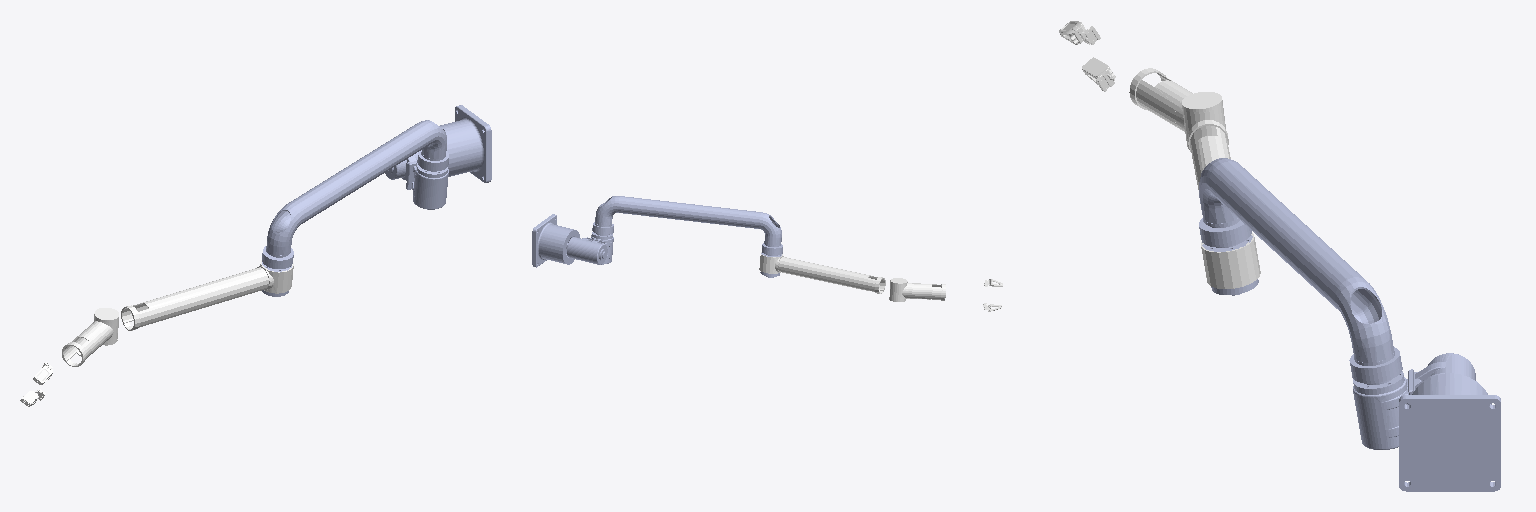
The robot description file, URDF, robot "artificial2__starlink_sldasm9":
<?xml version='1.0' encoding='utf-8'?>
<robot name="artificial2__starlink_sldasm9">
  <link name="base_link">
    <visual>
      <geometry>
        <mesh filename="../satellites/artificial2/satellite.stl" />
      </geometry>
      <material name="satellite_grey">
        <color rgba=".6 .7 .8 1" />
      </material>
    </visual>
    <collision>
      <geometry>
        <mesh filename="../satellites/artificial2/satellite.stl" />
      </geometry>
    </collision>
  </link>
  <link name="artificial2_mount" />
  <joint name="satellite_mount_fixed" type="fixed">
    <parent link="base_link" />
    <child link="artificial2_mount" />
    <origin xyz="-0.22911911390164835 1.1 0.35" rpy="0.0 -1.5707963267948966 0.0" />
  </joint>
  <link name="mount_support">
    <visual>
      <geometry>
        <mesh filename="../satellites/artificial2/mount_support.stl" />
      </geometry>
      <material name="mount_green">
        <color rgba=".2 .7 .35 1" />
      </material>
    </visual>
    <collision>
      <geometry>
        <mesh filename="../satellites/artificial2/mount_support.stl" />
      </geometry>
    </collision>
  </link>
  <joint name="support_fixed" type="fixed">
    <parent link="artificial2_mount" />
    <child link="mount_support" />
    <origin xyz="0 0 0" rpy="0 0 0" />
  </joint>
  <joint name="arm_adapter_fixed" type="fixed">
    <parent link="artificial2_mount" />
    <child link="starlink_space_manipulator_base_link" />
    <origin xyz="0.009087204933166504 0.008519247174263 0.15000000141561035" rpy="-1.5707963267948966 0 0" />
  </joint>
  <link name="starlink_space_manipulator_base_link">
    <inertial>
      <origin xyz="-0.00908719924946466 0.0225428225681148 -0.00851924929637313" rpy="0 0 0" />
      <mass value="8.66024015898073" />
      <inertia ixx="0.0960303512697639" ixy="1.65511904636803E-18" ixz="6.22039820639877E-19" iyy="0.103454922260914" iyz="-9.68471289978311E-19" izz="0.0960303512697639" />
    </inertial>
    <visual>
      <origin xyz="0 0 0" rpy="0 0 0" />
      <geometry>
        <mesh filename="../arms/starlink_sldasm9/meshes/starlink_space_manipulator_base_link.STL" />
      </geometry>
      <material name="">
        <color rgba="0.792156862745098 0.819607843137255 0.933333333333333 1" />
      </material>
    </visual>
    <collision>
      <origin xyz="0 0 0" rpy="0 0 0" />
      <geometry>
        <mesh filename="../arms/starlink_sldasm9/meshes/starlink_space_manipulator_base_link.STL" />
      </geometry>
    </collision>
  </link>
  <link name="starlink_space_manipulator_Shoulder_link_1">
    <inertial>
      <origin xyz="-0.000399471745595769 -0.100006574194712 -0.17423940484461" rpy="0 0 0" />
      <mass value="5.16309216784981" />
      <inertia ixx="0.0524543852135592" ixy="0.00348154867667969" ixz="6.96526910910627E-05" iyy="0.0306595326318824" iyz="-0.00056674368052247" izz="0.0439979075615329" />
    </inertial>
    <visual>
      <origin xyz="0 0 0" rpy="0 0 0" />
      <geometry>
        <mesh filename="../arms/starlink_sldasm9/meshes/starlink_space_manipulator_Shoulder_link_1.STL" />
      </geometry>
      <material name="">
        <color rgba="0.792156862745098 0.819607843137255 0.933333333333333 1" />
      </material>
    </visual>
    <collision>
      <origin xyz="0 0 0" rpy="0 0 0" />
      <geometry>
        <mesh filename="../arms/starlink_sldasm9/meshes/starlink_space_manipulator_Shoulder_link_1.STL" />
      </geometry>
    </collision>
  </link>
  <joint name="starlink_space_manipulator_Shoulder_link_1_yaw" type="revolute">
    <origin xyz="-0.0090872 -0.065 -0.0085192" rpy="1.5708 -0.15574 3.1416" />
    <parent link="starlink_space_manipulator_base_link" />
    <child link="starlink_space_manipulator_Shoulder_link_1" />
    <axis xyz="0 0 -1" />
    <limit lower="-3.14" upper="3.14" effort="0" velocity="0" />
  </joint>
  <link name="starlink_space_manipulator_Upper_arm_Link_1">
    <inertial>
      <origin xyz="0.402106341472203 -0.696465272634528 -0.170177523085579" rpy="0 0 0" />
      <mass value="5.05309869040685" />
      <inertia ixx="0.388719013133801" ixy="0.210155896498943" ixz="9.30829370680679E-08" iyy="0.146049057575642" iyz="1.71830458004218E-07" izz="0.500677708275447" />
    </inertial>
    <visual>
      <origin xyz="0 0 0" rpy="0 0 0" />
      <geometry>
        <mesh filename="../arms/starlink_sldasm9/meshes/starlink_space_manipulator_Upper_arm_Link_1.STL" />
      </geometry>
      <material name="">
        <color rgba="0.792156862745098 0.819607843137255 0.933333333333333 1" />
      </material>
    </visual>
    <collision>
      <origin xyz="0 0 0" rpy="0 0 0" />
      <geometry>
        <mesh filename="../arms/starlink_sldasm9/meshes/starlink_space_manipulator_Upper_arm_Link_1.STL" />
      </geometry>
    </collision>
  </link>
  <joint name="starlink_space_manipulator_Upper_arm_Link_1_roll" type="revolute">
    <origin xyz="0 -0.2 -0.18" rpy="1.5708 0.90646 1.5708" />
    <parent link="starlink_space_manipulator_Shoulder_link_1" />
    <child link="starlink_space_manipulator_Upper_arm_Link_1" />
    <axis xyz="0 0 -1" />
    <limit lower="-2" upper="1.5" effort="0" velocity="0" />
  </joint>
  <link name="starlink_space_manipulator_Mid_arm_Link_1">
    <inertial>
      <origin xyz="-0.000406052776441013 0.317722269561105 0.0155331755135703" rpy="0 0 0" />
      <mass value="1.57635531881168" />
      <inertia ixx="0.133610363618846" ixy="5.33750993405138E-05" ixz="-3.60473795202962E-09" iyy="0.00502119434334708" iyz="-2.514275749911E-05" izz="0.134586018527477" />
    </inertial>
    <visual>
      <origin xyz="0 0 0" rpy="0 0 0" />
      <geometry>
        <mesh filename="../arms/starlink_sldasm9/meshes/starlink_space_manipulator_Mid_arm_Link_1.STL" />
      </geometry>
      <material name="">
        <color rgba="1 1 1 1" />
      </material>
    </visual>
    <collision>
      <origin xyz="0 0 0" rpy="0 0 0" />
      <geometry>
        <mesh filename="../arms/starlink_sldasm9/meshes/starlink_space_manipulator_Mid_arm_Link_1.STL" />
      </geometry>
    </collision>
  </link>
  <joint name="starlink_space_manipulator_Mid_arm_Link_1_roll" type="revolute">
    <origin xyz="0.599999999999673 -1.03923048454122 0" rpy="-3.14159265358979 0 0.828250280535091" />
    <parent link="starlink_space_manipulator_Upper_arm_Link_1" />
    <child link="starlink_space_manipulator_Mid_arm_Link_1" />
    <axis xyz="0 0 -1" />
    <limit lower="-3.14" upper="3.14" effort="0" velocity="0" />
  </joint>
  <link name="starlink_space_manipulator_Upper_wrist_Link_1">
    <inertial>
      <origin xyz="-0.000400003664721815 -0.201565878030355 -0.00216705855311664" rpy="0 0 0" />
      <mass value="0.994770641034713" />
      <inertia ixx="0.00165409639029414" ixy="-7.59103925411082E-06" ixz="-3.17403155320863E-06" iyy="0.00201437937768072" iyz="2.63246464091218E-06" izz="0.00159638838344539" />
    </inertial>
    <visual>
      <origin xyz="0 0 0" rpy="0 0 0" />
      <geometry>
        <mesh filename="../arms/starlink_sldasm9/meshes/starlink_space_manipulator_Upper_wrist_Link_1.STL" />
      </geometry>
      <material name="">
        <color rgba="0.792156862745098 0.819607843137255 0.933333333333333 1" />
      </material>
    </visual>
    <collision>
      <origin xyz="0 0 0" rpy="0 0 0" />
      <geometry>
        <mesh filename="../arms/starlink_sldasm9/meshes/starlink_space_manipulator_Upper_wrist_Link_1.STL" />
      </geometry>
    </collision>
  </link>
  <joint name="starlink_space_manipulator_Upper_wrist_Link_1_yaw" type="revolute">
    <origin xyz="-0.00050155183276912 0.686793643713439 0.0155010481432086" rpy="0 -0.0763876794035917 3.14159265358979" />
    <parent link="starlink_space_manipulator_Mid_arm_Link_1" />
    <child link="starlink_space_manipulator_Upper_wrist_Link_1" />
    <axis xyz="0 -1 0" />
    <limit lower="-3.14" upper="3.14" effort="0" velocity="0" />
  </joint>
  <link name="starlink_space_manipulator_Upper_wrist_Link_2">
    <inertial>
      <origin xyz="8.45304168883843E-08 0.0848318719623631 -0.00515657391755576" rpy="0 0 0" />
      <mass value="1.03716823037577" />
      <inertia ixx="0.0100970561498589" ixy="1.32295633551837E-09" ixz="-9.43675929999229E-09" iyy="0.00222325407426665" iyz="-2.08772874866187E-06" izz="0.0105840577017538" />
    </inertial>
    <visual>
      <origin xyz="0 0 0" rpy="0 0 0" />
      <geometry>
        <mesh filename="../arms/starlink_sldasm9/meshes/starlink_space_manipulator_Upper_wrist_Link_2.STL" />
      </geometry>
      <material name="">
        <color rgba="1 1 1 1" />
      </material>
    </visual>
    <collision>
      <origin xyz="0 0 0" rpy="0 0 0" />
      <geometry>
        <mesh filename="../arms/starlink_sldasm9/meshes/starlink_space_manipulator_Upper_wrist_Link_2.STL" />
      </geometry>
    </collision>
  </link>
  <joint name="starlink_space_manipulator_Upper_wrist_Link_2_roll" type="revolute">
    <origin xyz="0 -0.30020635628656 0" rpy="-0.0158640776811277 -0.0317448426184613 -2.67805461574742" />
    <parent link="starlink_space_manipulator_Upper_wrist_Link_1" />
    <child link="starlink_space_manipulator_Upper_wrist_Link_2" />
    <axis xyz="0 0 1" />
    <limit lower="-2.5" upper="1.8" effort="0" velocity="0" />
  </joint>
  <link name="starlink__space_manipulator_2F-Body_Link">
    <inertial>
      <origin xyz="0.000132893636818288 -0.122912145301831 0.000141178527731878" rpy="0 0 0" />
      <mass value="2.06098061435798" />
      <inertia ixx="0.00357820981002093" ixy="-9.7173781739015E-06" ixz="-0.000377950837415894" iyy="0.00540179107539635" iyz="3.57093943209629E-06" izz="0.0050632324449311" />
    </inertial>
    <visual>
      <origin xyz="0 0 0" rpy="0 0 0" />
      <geometry>
        <mesh filename="../arms/starlink_sldasm9/meshes/starlink__space_manipulator_2F-Body_Link.STL" />
      </geometry>
      <material name="">
        <color rgba="0.792156862745098 0.819607843137255 0.933333333333333 1" />
      </material>
    </visual>
    <collision>
      <origin xyz="0 0 0" rpy="0 0 0" />
      <geometry>
        <mesh filename="../arms/starlink_sldasm9/meshes/starlink__space_manipulator_2F-Body_Link.STL" />
      </geometry>
    </collision>
  </link>
  <joint name="starlink__space_manipulator_2F-Body_Link_yaw" type="revolute">
    <origin xyz="0 0.34845 -0.0053813" rpy="-3.1416 0.93592 0" />
    <parent link="starlink_space_manipulator_Upper_wrist_Link_2" />
    <child link="starlink__space_manipulator_2F-Body_Link" />
    <axis xyz="0 -1 0" />
    <limit lower="-3.14" upper="3.14" effort="0" velocity="0" />
  </joint>
  <link name="starlink_space_manipulator_Finger1_2_Link">
    <inertial>
      <origin xyz="-0.128379781160824 0.00213384929263816 0.20765530277947" rpy="0 0 0" />
      <mass value="0.164012557851557" />
      <inertia ixx="0.000137377814382494" ixy="5.75324125943043E-07" ixz="1.56204374379134E-05" iyy="0.000128174497717794" iyz="2.8915711708103E-06" izz="5.56877077151319E-05" />
    </inertial>
    <visual>
      <origin xyz="0 0 0" rpy="0 0 0" />
      <geometry>
        <mesh filename="../arms/starlink_sldasm9/meshes/starlink_space_manipulator_Finger1_2_Link.STL" />
      </geometry>
      <material name="">
        <color rgba="1 1 1 1" />
      </material>
    </visual>
    <collision>
      <origin xyz="0 0 0" rpy="0 0 0" />
      <geometry>
        <mesh filename="../arms/starlink_sldasm9/meshes/starlink_space_manipulator_Finger1_2_Link.STL" />
      </geometry>
    </collision>
  </link>
  <joint name="starlink_space_manipulator_Finger1_2_Link_roll" type="prismatic">
    <origin xyz="-0.2017 -0.10916 -0.04801" rpy="-1.5708 0.22747 -3.1416" />
    <parent link="starlink__space_manipulator_2F-Body_Link" />
    <child link="starlink_space_manipulator_Finger1_2_Link" />
    <axis xyz="-1 0 0" />
    <limit lower="0.0" upper="0.04" effort="20" velocity="0" />
  </joint>
  <link name="starlink_space_manipulator_Finger2_1_Link">
    <inertial>
      <origin xyz="-0.128379783275286 0.0021338497374519 0.207655316264438" rpy="0 0 0" />
      <mass value="0.164012525176243" />
      <inertia ixx="0.000137377758573247" ixy="5.75327227385201E-07" ixz="1.56204303396715E-05" iyy="0.00012817444752134" iyz="2.89153901545968E-06" izz="5.5687711839857E-05" />
    </inertial>
    <visual>
      <origin xyz="0 0 0" rpy="0 0 0" />
      <geometry>
        <mesh filename="../arms/starlink_sldasm9/meshes/starlink_space_manipulator_Finger2_1_Link.STL" />
      </geometry>
      <material name="">
        <color rgba="1 1 1 1" />
      </material>
    </visual>
    <collision>
      <origin xyz="0 0 0" rpy="0 0 0" />
      <geometry>
        <mesh filename="../arms/starlink_sldasm9/meshes/starlink_space_manipulator_Finger2_1_Link.STL" />
      </geometry>
    </collision>
  </link>
  <joint name="starlink_space_manipulator_Finger2_1_Link_roll" type="prismatic">
    <origin xyz="0.20865 -0.10916 0.049619" rpy="1.5708 -0.22747 0" />
    <parent link="starlink__space_manipulator_2F-Body_Link" />
    <child link="starlink_space_manipulator_Finger2_1_Link" />
    <axis xyz="-1 0 0" />
    <limit lower="0.0" upper="0.04" effort="20" velocity="0" />
  </joint>
</robot>

--- Render facts (derived) ---
Views: 3 orthographic renders of the robot side by side, from view 1: azimuth 30°, elevation 25°; view 2: azimuth 150°, elevation 25°; view 3: azimuth 270°, elevation 25°.
Robot: artificial2__starlink_sldasm9 — 12 links, 11 joints (6 revolute, 2 prismatic, 3 fixed); root link base_link; default pose: every joint at zero.
Links seen in each view (by area): view 1: starlink_space_manipulator_Upper_arm_Link_1, starlink_space_manipulator_Mid_arm_Link_1, starlink_space_manipulator_base_link, starlink_space_manipulator_Shoulder_link_1, starlink_space_manipulator_Upper_wrist_Link_2; view 2: starlink_space_manipulator_Upper_arm_Link_1, starlink_space_manipulator_Mid_arm_Link_1, starlink_space_manipulator_base_link, starlink_space_manipulator_Shoulder_link_1, starlink_space_manipulator_Upper_wrist_Link_2; view 3: starlink_space_manipulator_Upper_arm_Link_1, starlink_space_manipulator_base_link, starlink_space_manipulator_Shoulder_link_1, starlink_space_manipulator_Mid_arm_Link_1, starlink_space_manipulator_Upper_wrist_Link_2, starlink_space_manipulator_Finger2_1_Link, starlink_space_manipulator_Finger1_2_Link.
Link boxes in pixels (<box>): starlink_space_manipulator_Upper_arm_Link_1: <box>262,120,446,296</box>; starlink_space_manipulator_Mid_arm_Link_1: <box>121,260,293,330</box>; starlink_space_manipulator_base_link: <box>439,105,491,182</box>; starlink_space_manipulator_Shoulder_link_1: <box>385,150,448,209</box>; starlink_space_manipulator_Upper_wrist_Link_2: <box>62,308,118,366</box>; starlink_space_manipulator_Upper_arm_Link_1: <box>595,196,782,277</box>; starlink_space_manipulator_Mid_arm_Link_1: <box>759,252,885,293</box>; starlink_space_manipulator_base_link: <box>532,214,579,267</box>; starlink_space_manipulator_Shoulder_link_1: <box>566,222,613,264</box>; starlink_space_manipulator_Upper_wrist_Link_2: <box>889,278,945,301</box>; starlink_space_manipulator_Upper_arm_Link_1: <box>1199,158,1394,365</box>; starlink_space_manipulator_base_link: <box>1399,373,1500,491</box>; starlink_space_manipulator_Shoulder_link_1: <box>1349,347,1475,449</box>; starlink_space_manipulator_Mid_arm_Link_1: <box>1187,120,1260,288</box>; starlink_space_manipulator_Upper_wrist_Link_2: <box>1129,68,1225,149</box>; starlink_space_manipulator_Finger2_1_Link: <box>1082,57,1115,91</box>; starlink_space_manipulator_Finger1_2_Link: <box>1059,21,1100,44</box>.
Bounding box of the posed robot: 3.11 × 1.3 × 0.5961 m (x, y, z).
7 mesh visuals loaded from 11 distinct referenced files (7 binary STL); not drawn: 4 (reference not matched to a file when rendering).
